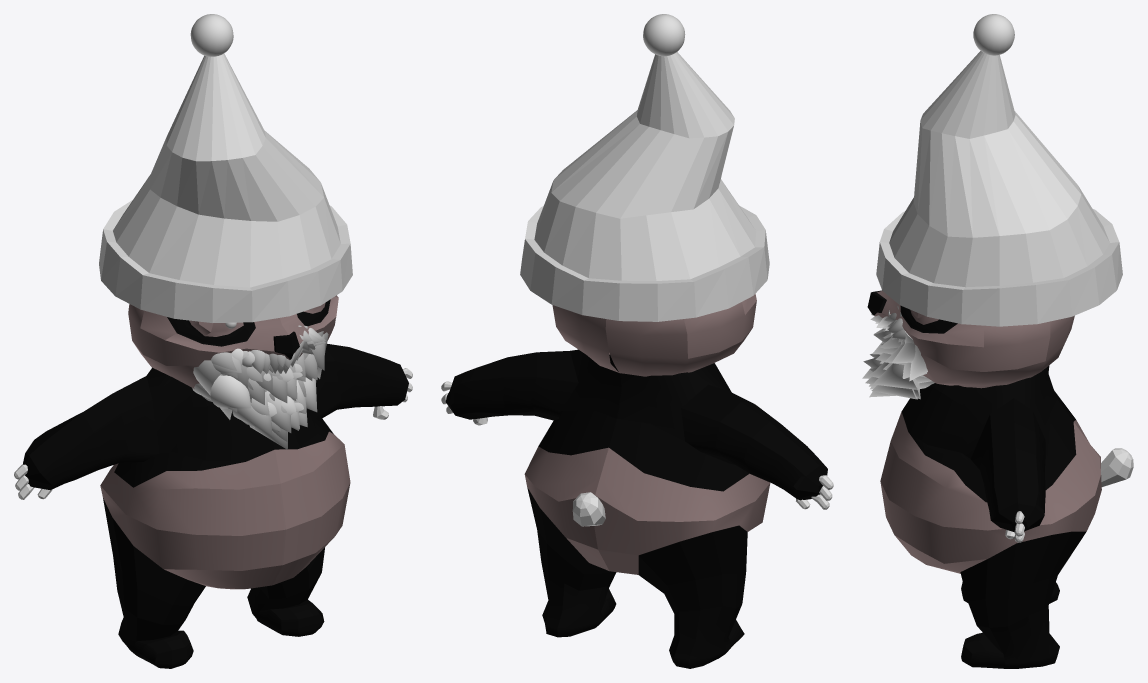
The model's file is mrwopsy.fbx.
3 views of the same model, side by side, from view 1: azimuth 30°, elevation 25°; view 2: azimuth 150°, elevation 25°; view 3: azimuth 270°, elevation 25° (orthographic). The views are drawn at different scales.
Visible parts, largest first — view 1: pSphere2, pCone1, pSphere1, pSphere4, pasted__pasted__pasted__pasted__pasted__pasted__pasted__past (×2), pSphere3, pSphere16; view 2: pCone1, pSphere2, pSphere1, pSphere4, pSphere3, pSphere16, pSphere5; view 3: pSphere1, pCone1, pSphere3, pSphere16, pSphere5, pasted__pasted__pasted__pasted__pasted__pasted__pasted__past, pSphere2.
Boxes of the visible parts, box(x1,y1,x2,y2) form: pSphere2: box(22, 367, 285, 668); pCone1: box(99, 53, 352, 322); pSphere1: box(247, 343, 408, 636); pSphere4: box(128, 304, 293, 388); pasted__pasted__pasted__pasted__pasted__pasted__pasted__past (×2): box(210, 375, 271, 434); pSphere3: box(280, 295, 338, 359); pSphere16: box(190, 14, 233, 56); pCone1: box(520, 52, 769, 321); pSphere2: box(594, 363, 827, 668); pSphere1: box(445, 349, 621, 637); pSphere4: box(605, 294, 756, 376); pSphere3: box(552, 305, 618, 372); pSphere16: box(643, 14, 685, 56); pSphere5: box(572, 492, 605, 526); pSphere1: box(880, 365, 1101, 668); pCone1: box(876, 51, 1122, 326); pSphere3: box(867, 291, 1074, 388); pSphere16: box(973, 14, 1014, 55); pSphere5: box(1101, 448, 1133, 486); pasted__pasted__pasted__pasted__pasted__pasted__pasted__past: box(873, 363, 919, 389); pSphere2: box(903, 367, 1100, 603).
Bounding box in the file's own units: 4.53 × 6.85 × 2.78.
